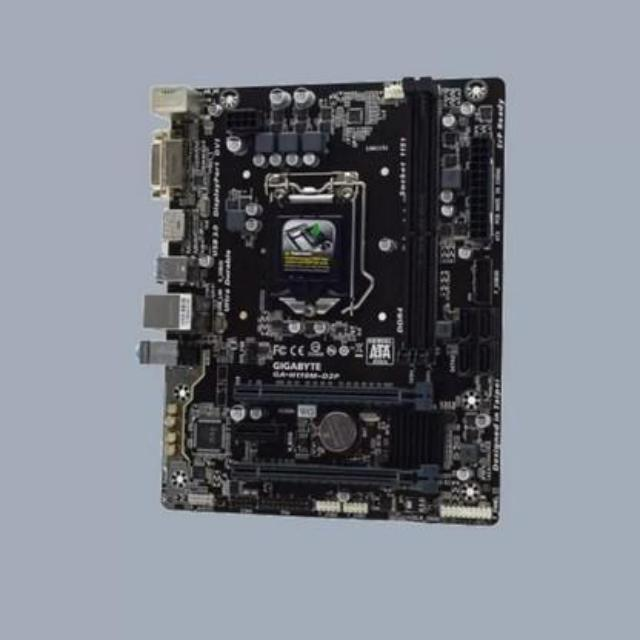Mainboard: (131, 74, 509, 528)
